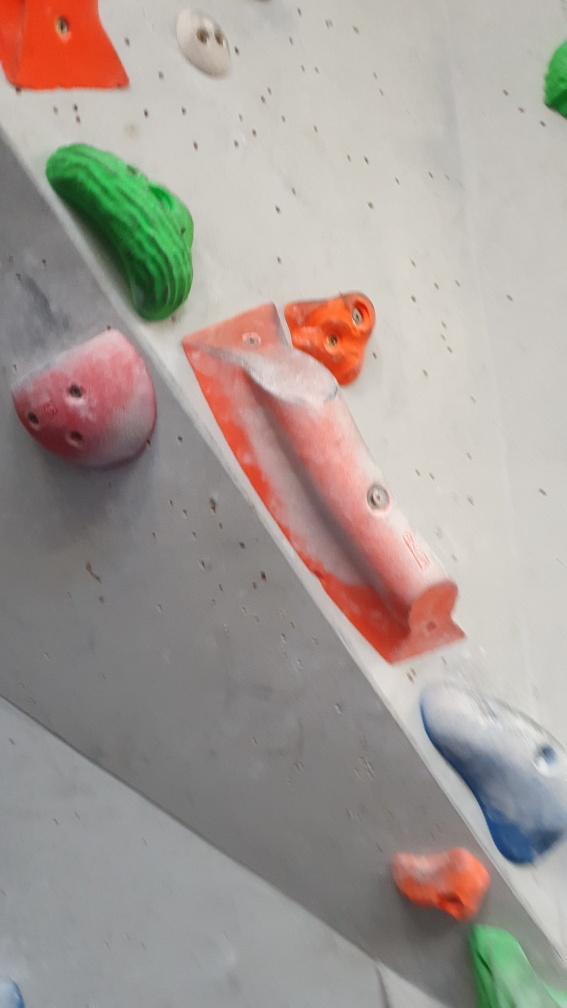Jug: (43, 137, 198, 331)
Pinch: (178, 297, 467, 670), (420, 675, 567, 865), (9, 1, 146, 107)
Sloper: (14, 328, 157, 475)
